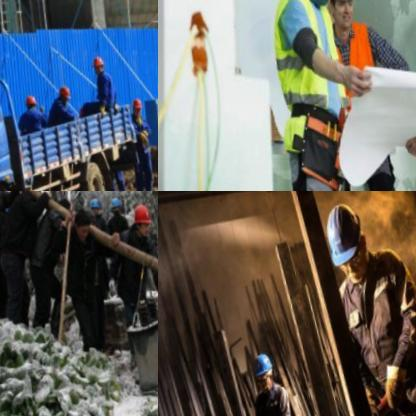helmet: (318, 192, 378, 281), (320, 0, 369, 33), (251, 346, 282, 390), (130, 197, 158, 237), (58, 78, 76, 102), (133, 88, 148, 112), (94, 49, 110, 71), (89, 191, 104, 214), (27, 90, 41, 108)
